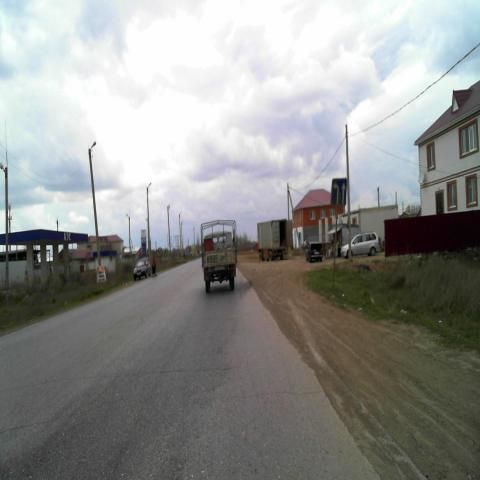5_15_2_2: (330, 178, 346, 206)
